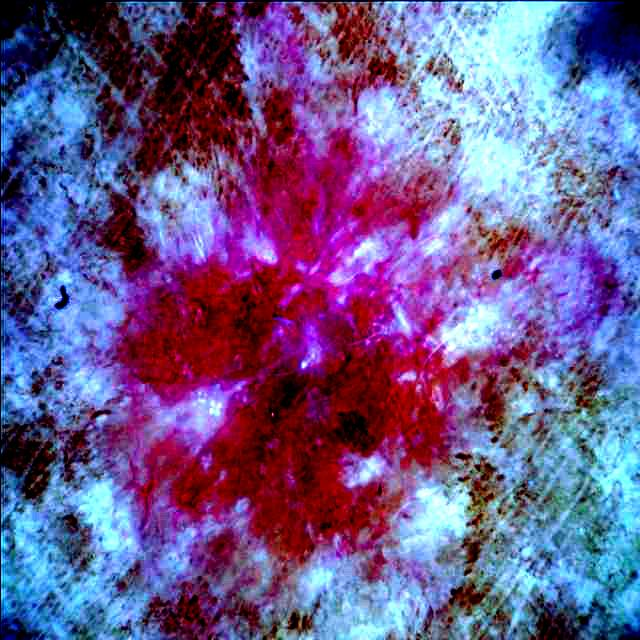AKIEC: (126, 114, 462, 584)
